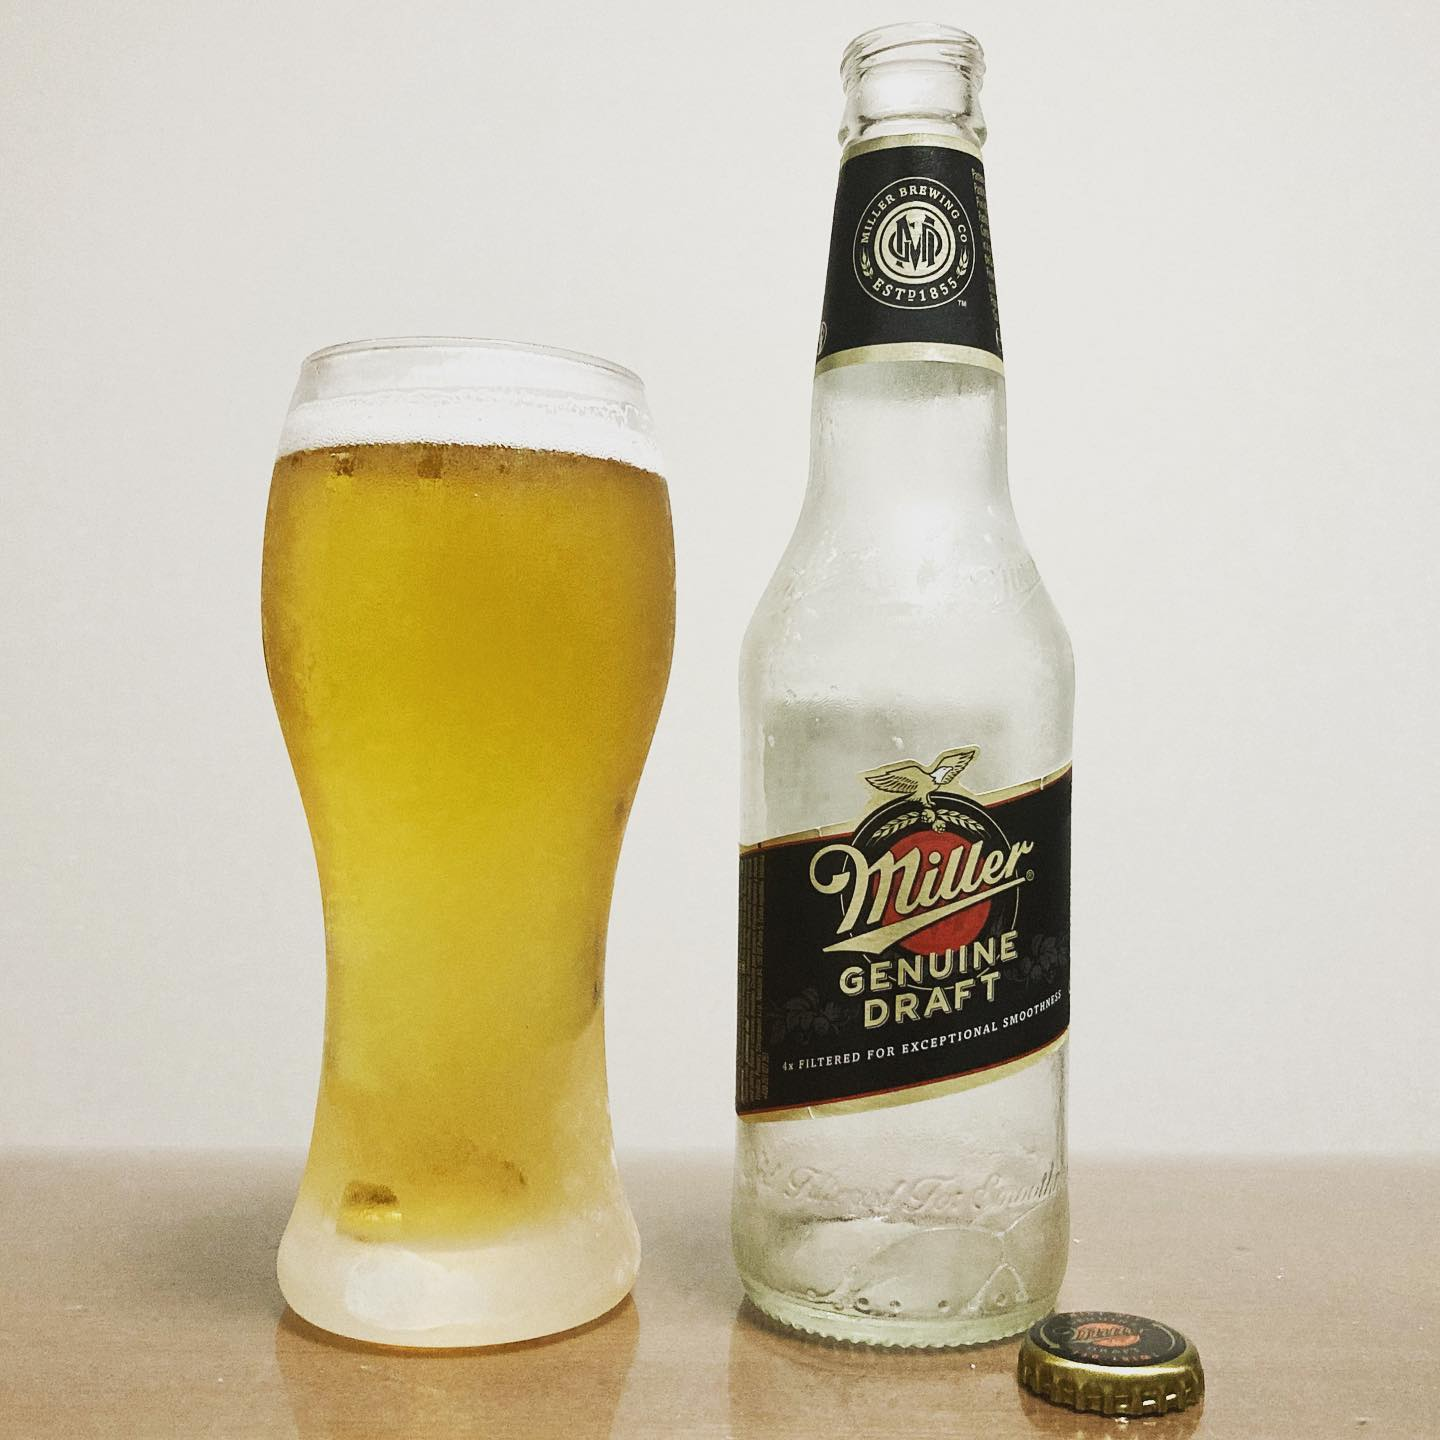alcohol: (723, 15, 1083, 1362), (251, 324, 683, 1362)
